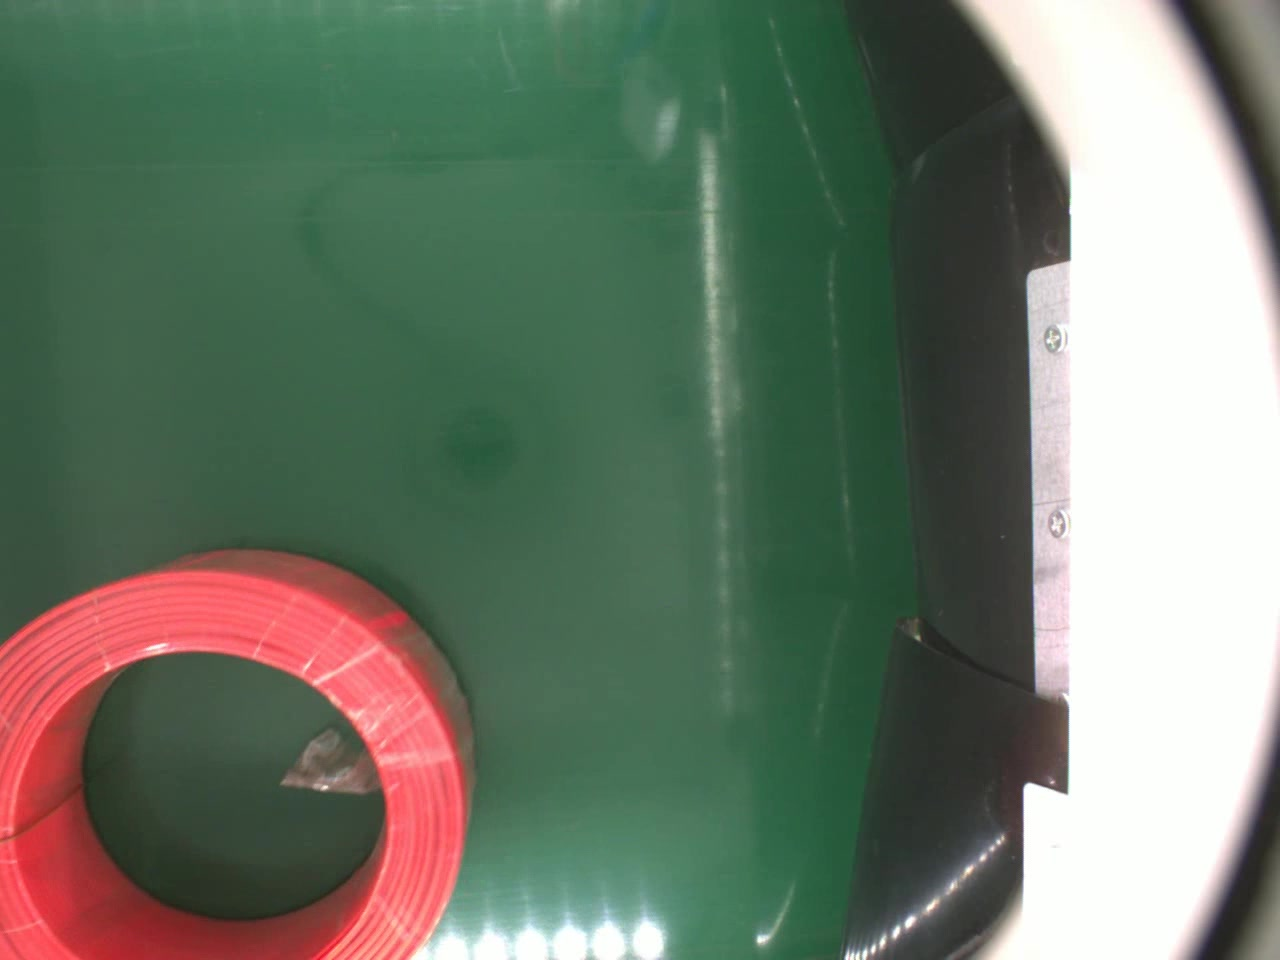red: (0, 545, 476, 960)
